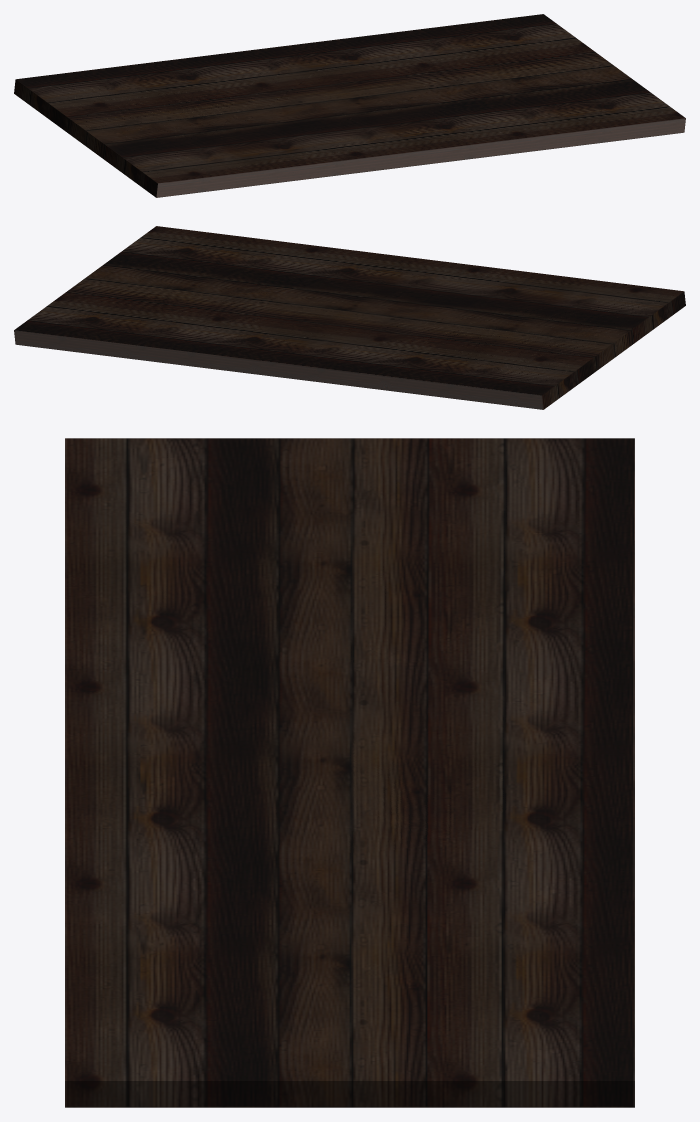
The model's file is masaBigHole.fbx.
3 views of the same model, one above another, from view 1: azimuth 30°, elevation 25°; view 2: azimuth 150°, elevation 25°; view 3: azimuth 270°, elevation 25° (orthographic). The views are drawn at different scales.
Visible parts, largest first — view 1: Medieval Table; view 2: Medieval Table; view 3: Medieval Table.
Boxes of the visible parts, <box> form: Medieval Table: <box>14,14,685,197</box>; Medieval Table: <box>14,226,685,409</box>; Medieval Table: <box>65,438,634,1107</box>.
Bounding box in the file's own units: 195 × 27.3 × 90.81.
